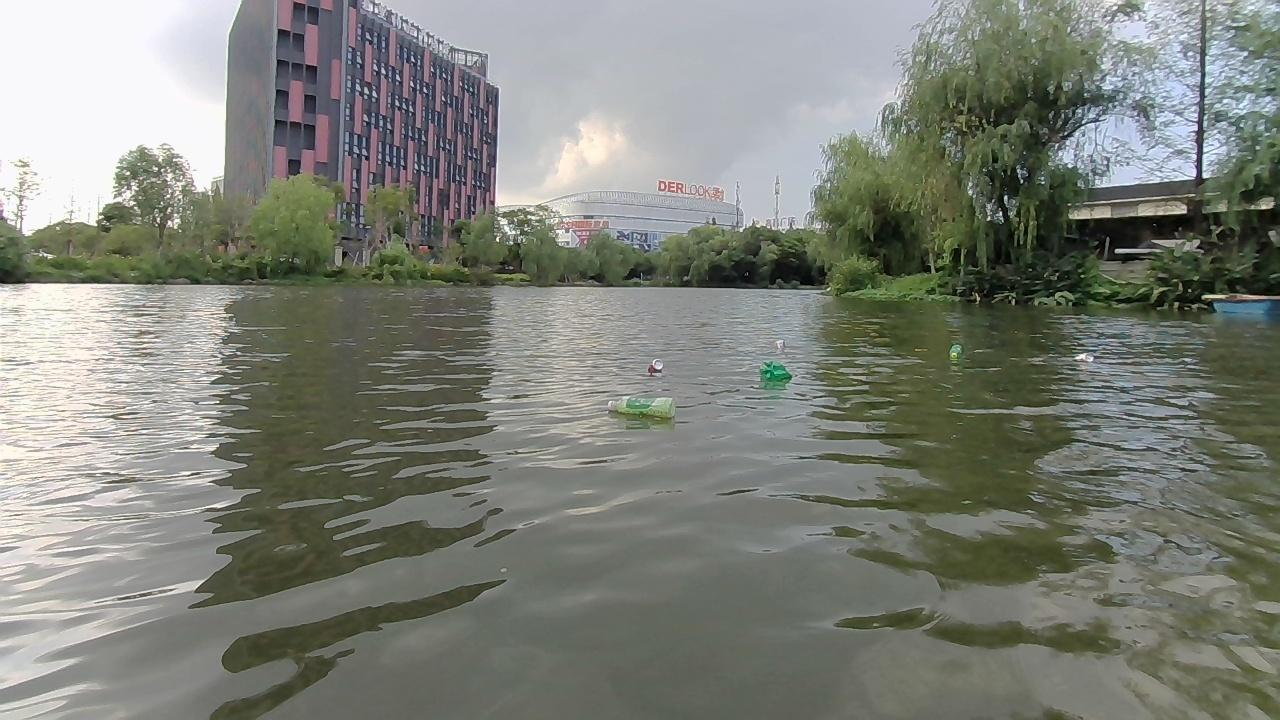bottle: (607, 395, 679, 422), (760, 357, 788, 381), (944, 340, 966, 360), (647, 356, 666, 375), (1071, 352, 1094, 366), (771, 337, 784, 349)
